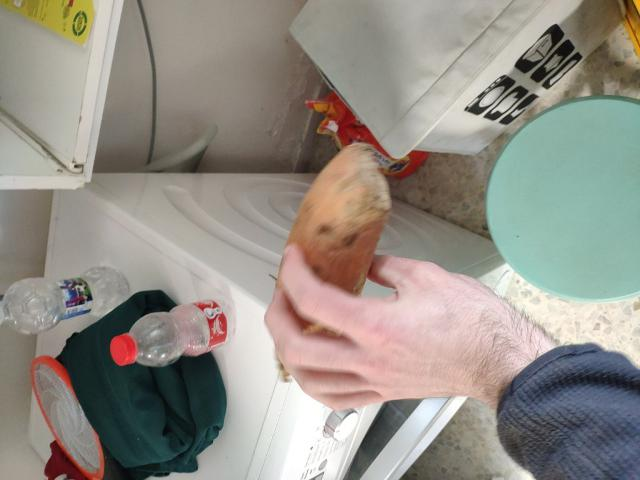sweet_potato: (270, 150, 381, 395)
